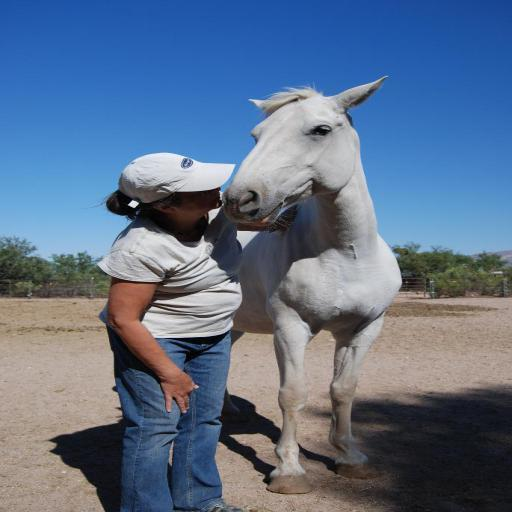horse: (200, 76, 404, 496)
